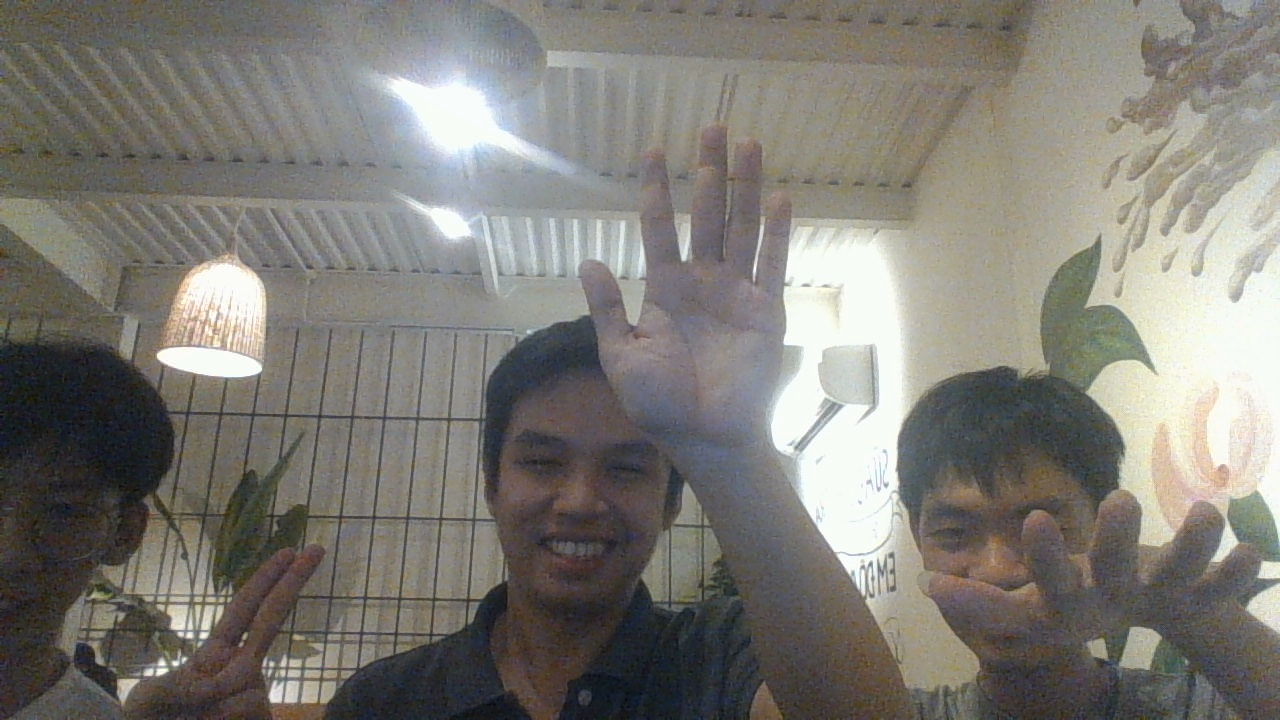check: (575, 122, 792, 456)
write3: (121, 544, 326, 720)
